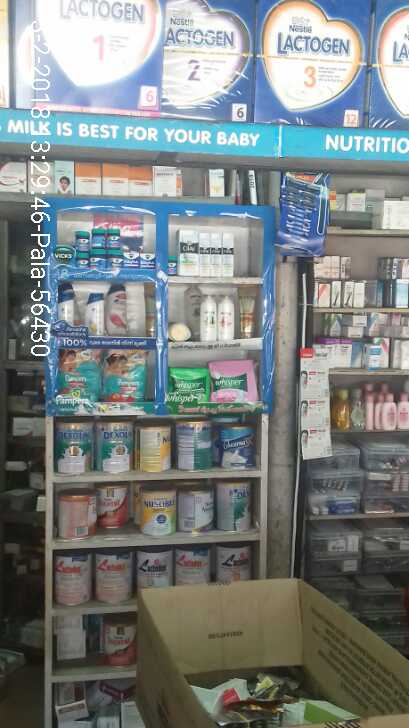vicks: (74, 224, 160, 270)
